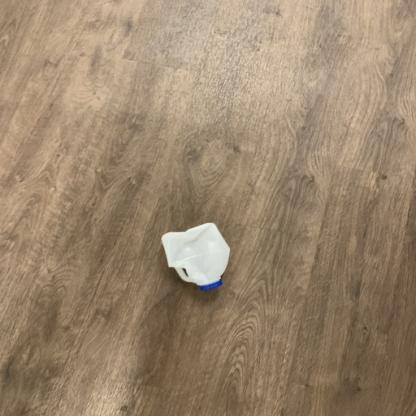trash: (158, 222, 232, 294)
